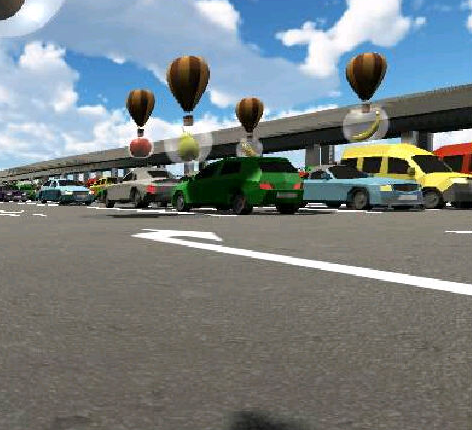ground_right: (131, 226, 226, 245)
